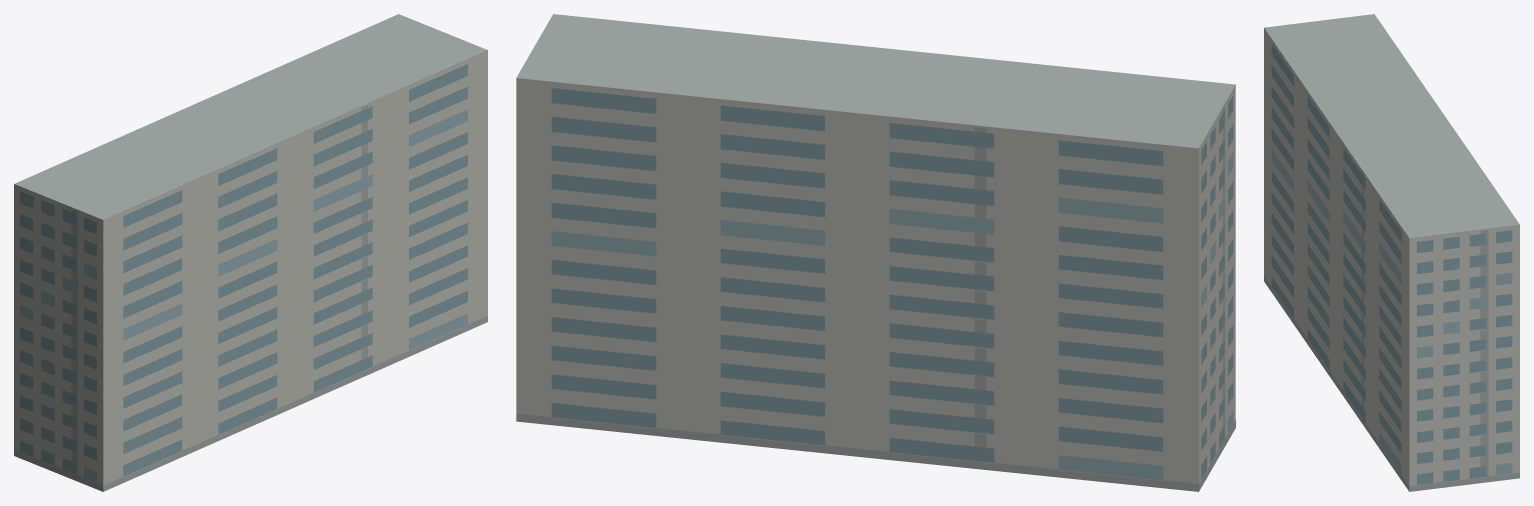
Rendered from residential-69ceab11-a12a-4331-acc7-a9c9bf6229af.glb.
3 views of the same model, side by side, from view 1: azimuth 30°, elevation 25°; view 2: azimuth 150°, elevation 25°; view 3: azimuth 270°, elevation 25° (orthographic). The views are drawn at different scales.
Parts seen in each view (by area): view 1: residential-69ceab11-a12a-4331-acc7-a9c9bf6229af.tmp; view 2: residential-69ceab11-a12a-4331-acc7-a9c9bf6229af.tmp; view 3: residential-69ceab11-a12a-4331-acc7-a9c9bf6229af.tmp.
Part boxes in pixels (left/top/right/bottom): residential-69ceab11-a12a-4331-acc7-a9c9bf6229af.tmp: left=14, top=14, right=487, bottom=491; residential-69ceab11-a12a-4331-acc7-a9c9bf6229af.tmp: left=516, top=14, right=1235, bottom=491; residential-69ceab11-a12a-4331-acc7-a9c9bf6229af.tmp: left=1264, top=14, right=1519, bottom=491.
Bounding box in the file's own units: 72.01 × 38 × 34.74.
